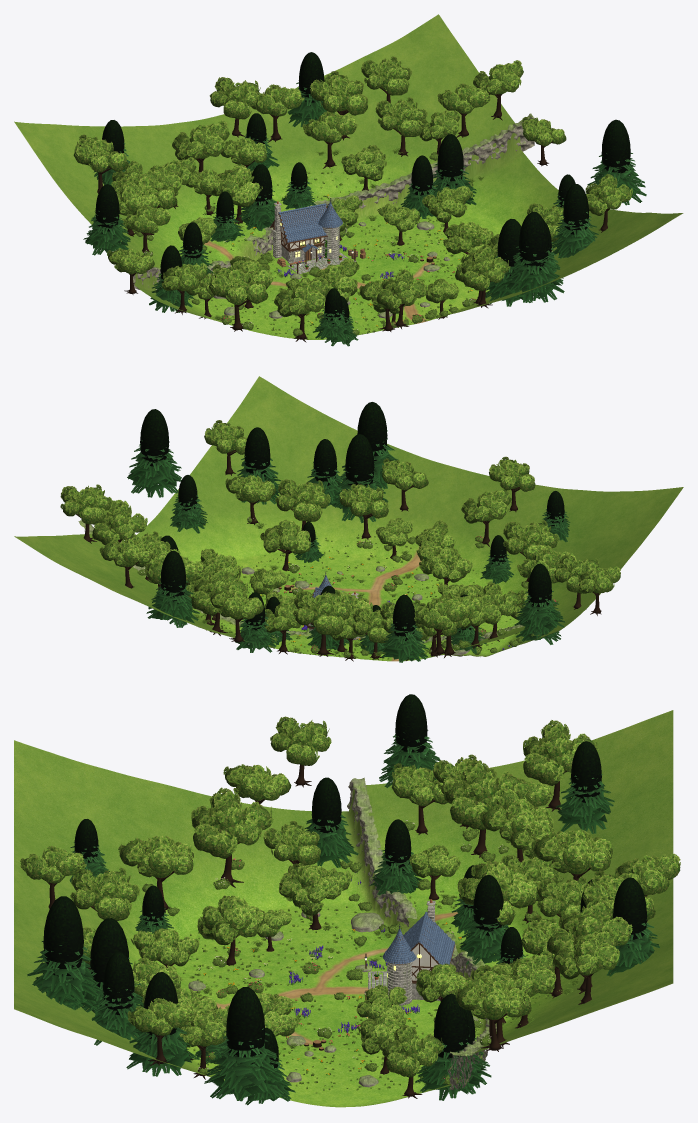
The model's file is sunlit_hollow_ro.glb.
The picture shows the model from 3 angles, top to bottom: view 1: azimuth 30°, elevation 25°; view 2: azimuth 150°, elevation 25°; view 3: azimuth 270°, elevation 25°; orthographic projection. The views are drawn at different scales.
Visible parts, largest first — view 1: 地形, 小屋, 針葉樹.007, 針葉樹.018, 針葉樹.011, 針葉樹.014, 広葉樹.032, 広葉樹.012, 広葉樹.030, 広葉樹.034, 広葉樹.025, 広葉樹.037 (+47 smaller); view 2: 地形, 針葉樹.018, 針葉樹.006, 広葉樹.030, 針葉樹.014, 針葉樹.015, 針葉樹.017, 広葉樹.043, 広葉樹.026, 広葉樹.034, 針葉樹.007, 針葉樹.011 (+38 smaller); view 3: 地形, 針葉樹.018, 針葉樹.007, 広葉樹.012, 小屋, 針葉樹.008, 針葉樹.015, 広葉樹.028, 広葉樹.039, 針葉樹.014, 針葉樹.011, 広葉樹.030 (+49 smaller).
Boxes of the visible parts, left/top/right/bottom form: 地形: left=14, top=14, right=683, bottom=339; 小屋: left=270, top=198, right=342, bottom=263; 針葉樹.007: left=501, top=211, right=564, bottom=302; 針葉樹.018: left=586, top=119, right=646, bottom=205; 針葉樹.011: left=551, top=184, right=598, bottom=258; 針葉樹.014: left=83, top=184, right=130, bottom=255; 広葉樹.032: left=310, top=71, right=367, bottom=140; 広葉樹.012: left=209, top=264, right=267, bottom=331; 広葉樹.030: left=172, top=120, right=229, bottom=172; 広葉樹.034: left=274, top=277, right=328, bottom=342; 広葉樹.025: left=209, top=77, right=260, bottom=137; 広葉樹.037: left=375, top=97, right=427, bottom=156; 地形: left=14, top=376, right=683, bottom=661; 針葉樹.018: left=127, top=409, right=181, bottom=497; 針葉樹.006: left=146, top=551, right=199, bottom=627; 広葉樹.030: left=293, top=590, right=352, bottom=656; 針葉樹.014: left=514, top=563, right=564, bottom=633; 針葉樹.015: left=378, top=594, right=428, bottom=662; 針葉樹.017: left=333, top=434, right=388, bottom=523; 広葉樹.043: left=275, top=479, right=330, bottom=530; 広葉樹.026: left=60, top=484, right=112, bottom=543; 広葉樹.034: left=503, top=520, right=559, bottom=581; 針葉樹.007: left=342, top=402, right=398, bottom=489; 針葉樹.011: left=237, top=427, right=281, bottom=504; 地形: left=14, top=710, right=673, bottom=1107; 針葉樹.018: left=204, top=987, right=287, bottom=1101; 針葉樹.007: left=27, top=896, right=102, bottom=1010; 広葉樹.012: left=191, top=787, right=273, bottom=887; 小屋: left=382, top=899, right=455, bottom=1005; 針葉樹.008: left=415, top=993, right=485, bottom=1100; 針葉樹.015: left=556, top=741, right=614, bottom=833; 広葉樹.028: left=443, top=760, right=523, bottom=857; 広葉樹.039: left=523, top=720, right=598, bottom=811; 針葉樹.014: left=379, top=694, right=440, bottom=787; 針葉樹.011: left=126, top=972, right=199, bottom=1076; 広葉樹.030: left=533, top=830, right=612, bottom=880.
Bounding box in the file's own units: 96.38 × 23.08 × 81.29.
19 materials, 11 textured.
